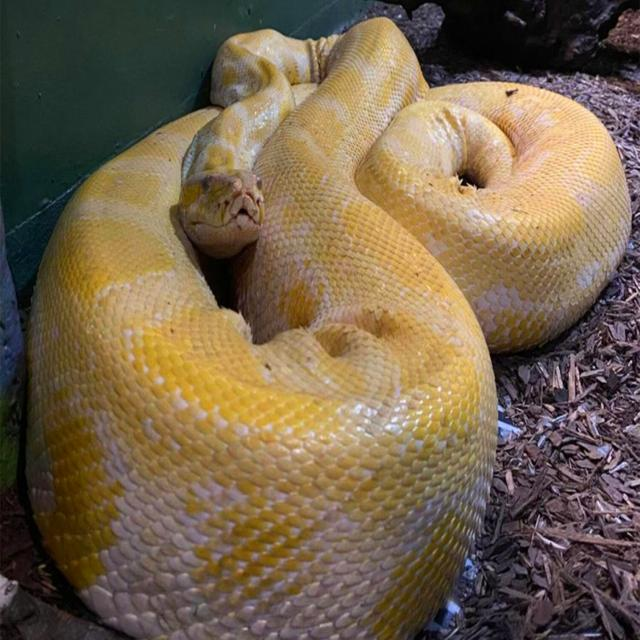snake: (27, 18, 632, 639)
